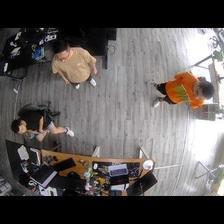normal: (149, 69, 213, 107), (51, 42, 96, 89), (10, 112, 74, 142)
